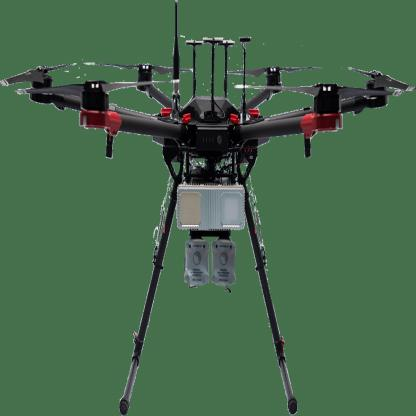drone: (2, 32, 416, 195)
